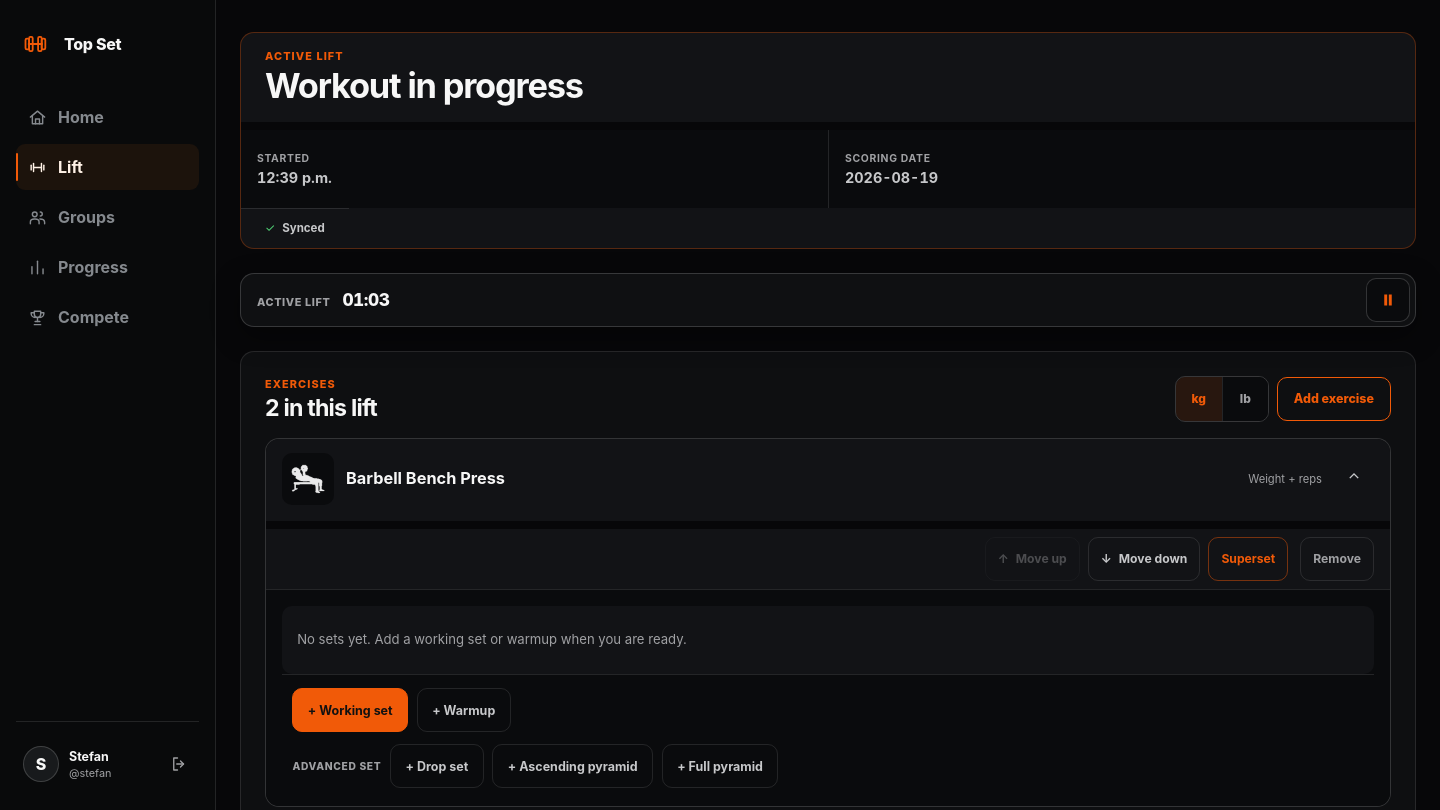
Test: workout session presentation › creates and orders a Superset from the exercise management flow
Click the button with aria-label "Create Superset for Barbell Bench Press" at (1248, 558), box left=1208, top=536, right=1288, bottom=580
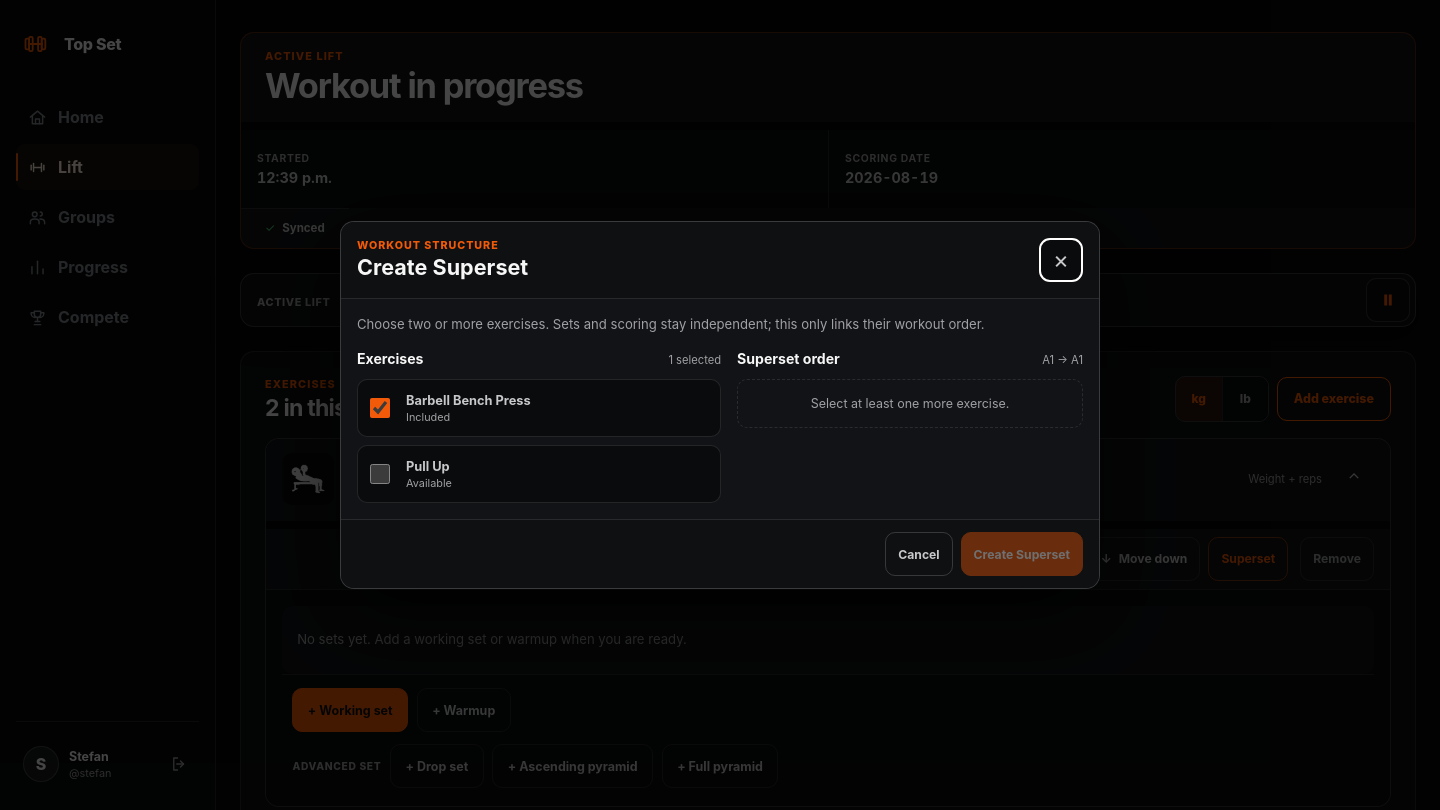
Check: the text "1 selected" is shown, box left=668, top=353, right=721, bottom=367
Click the checkbox labelled "Pull Up Available" at (380, 474), box left=370, top=464, right=390, bottom=484
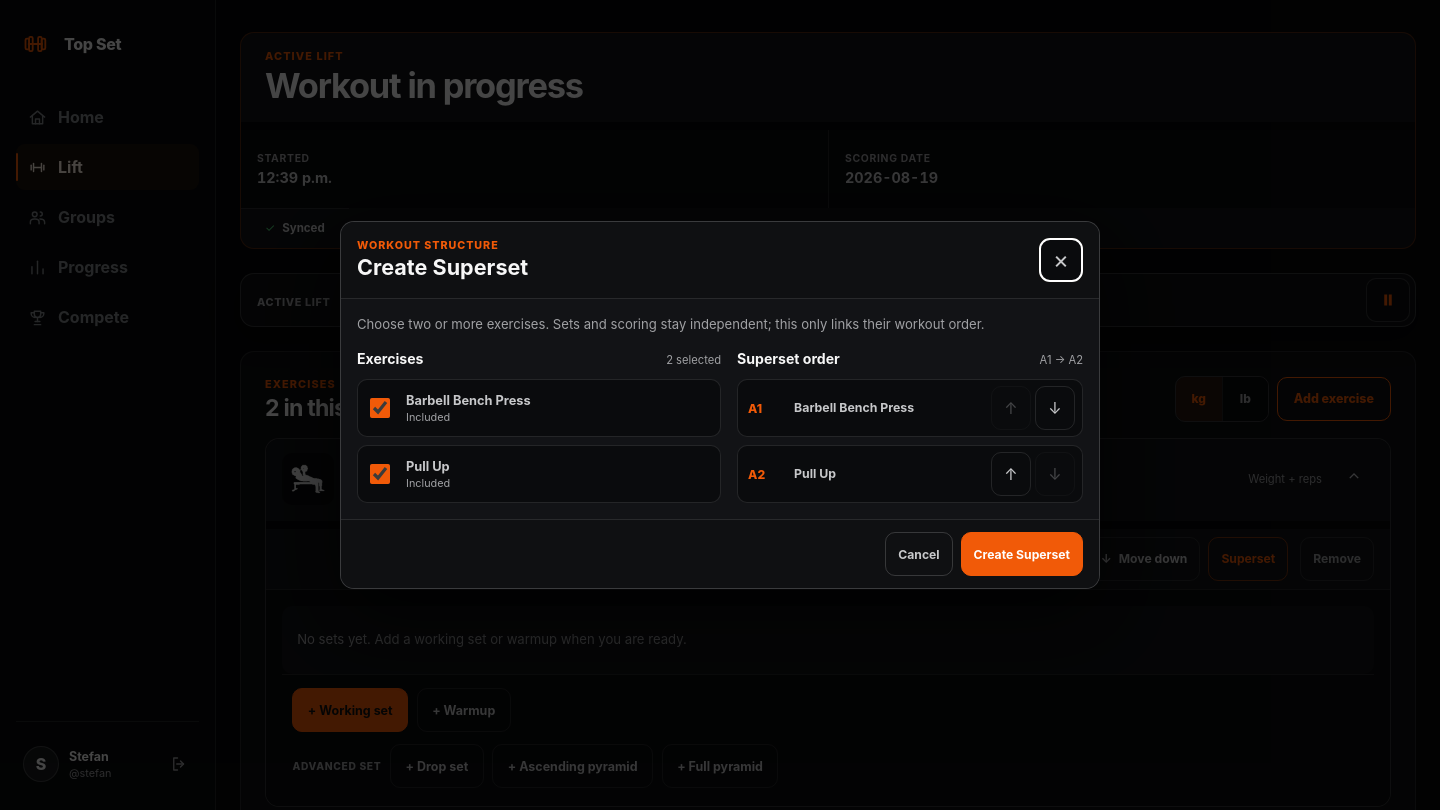
Check: the text "A1" is shown, box left=748, top=401, right=762, bottom=416
Check: the text "2 selected" is shown, box left=666, top=353, right=721, bottom=367
Check: the text "A2" is shown, box left=748, top=467, right=765, bottom=482
Click the button named "Move Pull Up earlier in Superset" at (1011, 474), box left=991, top=452, right=1031, bottom=496
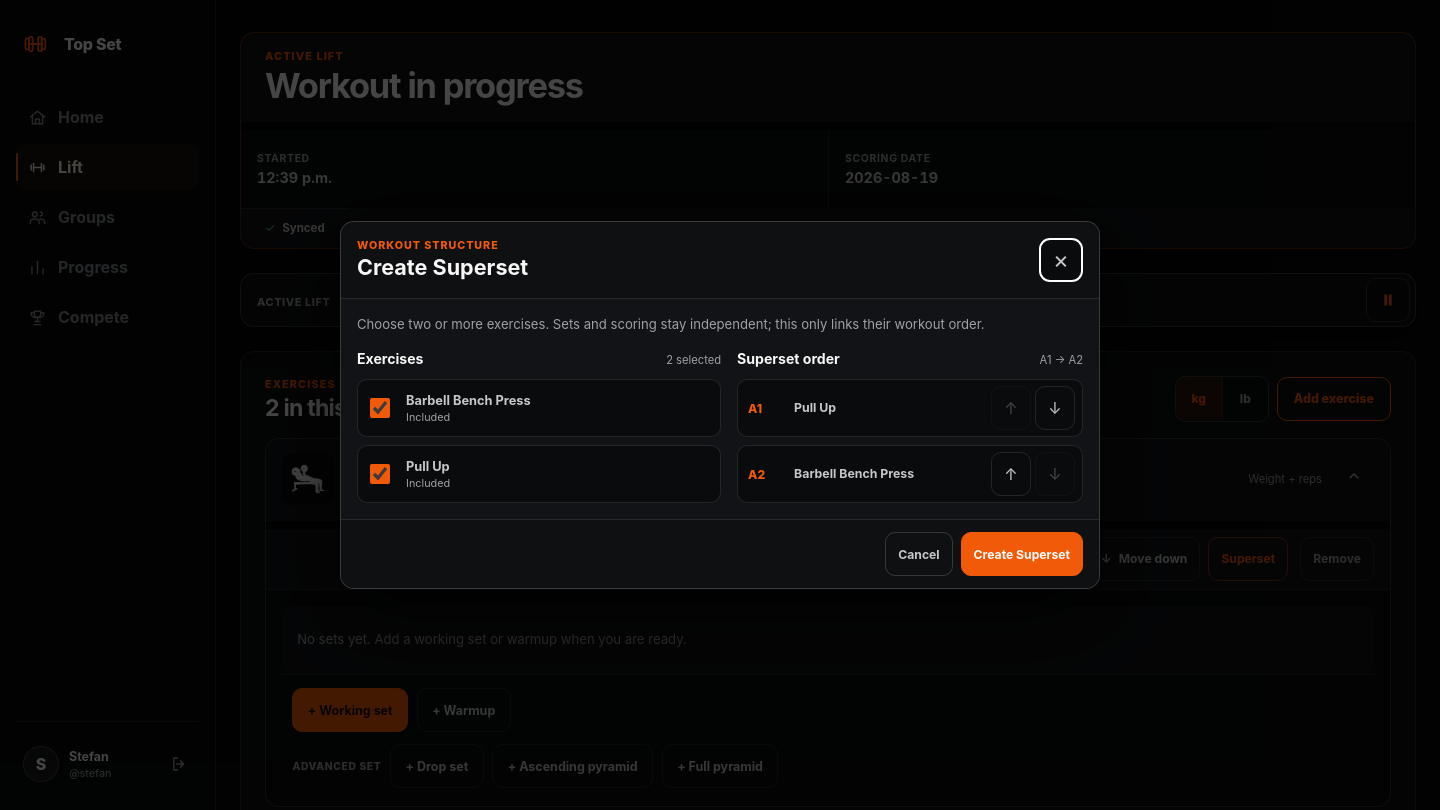
Click the button "Create Superset" at (1022, 554), box left=961, top=532, right=1083, bottom=576
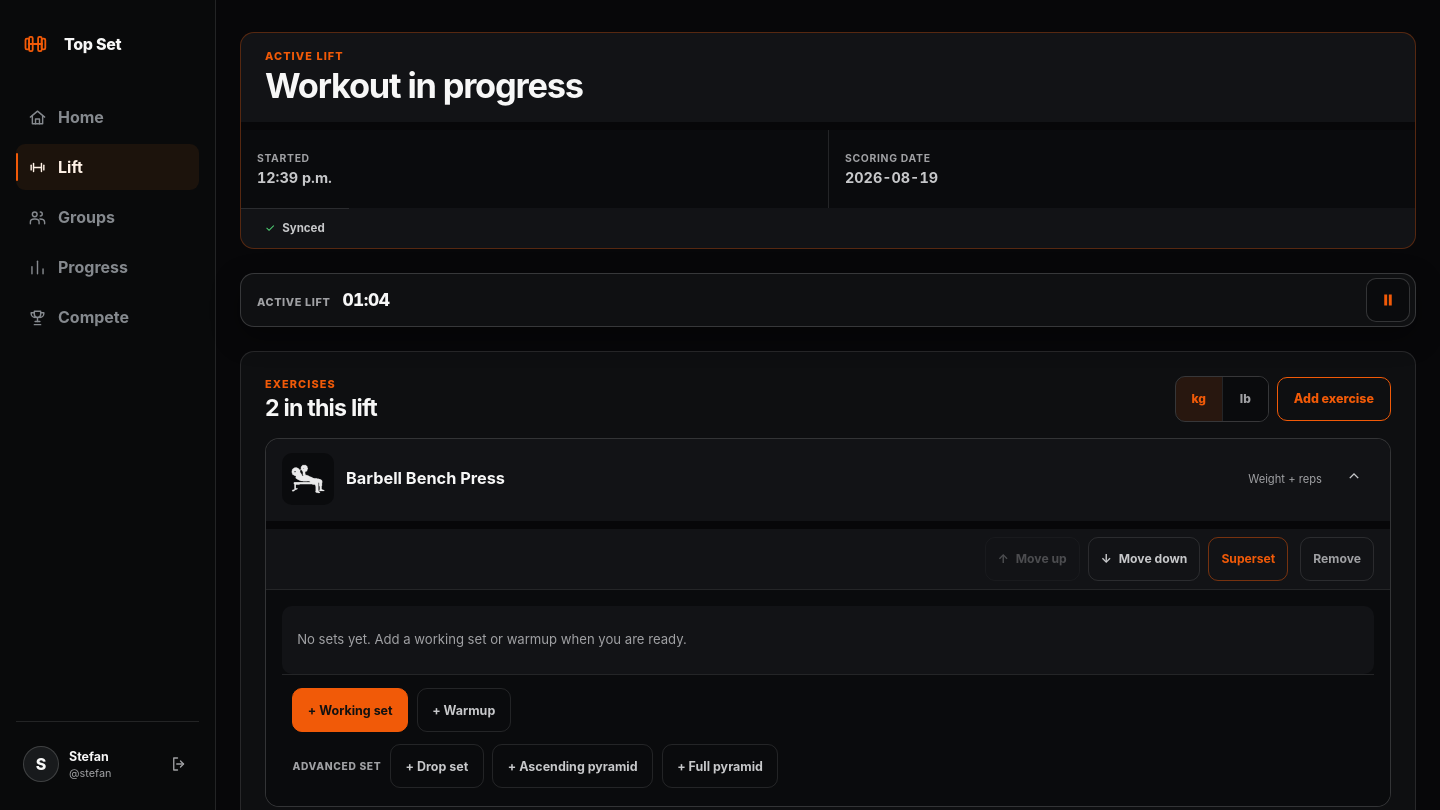
Check: the heading "Create Superset" is gone
